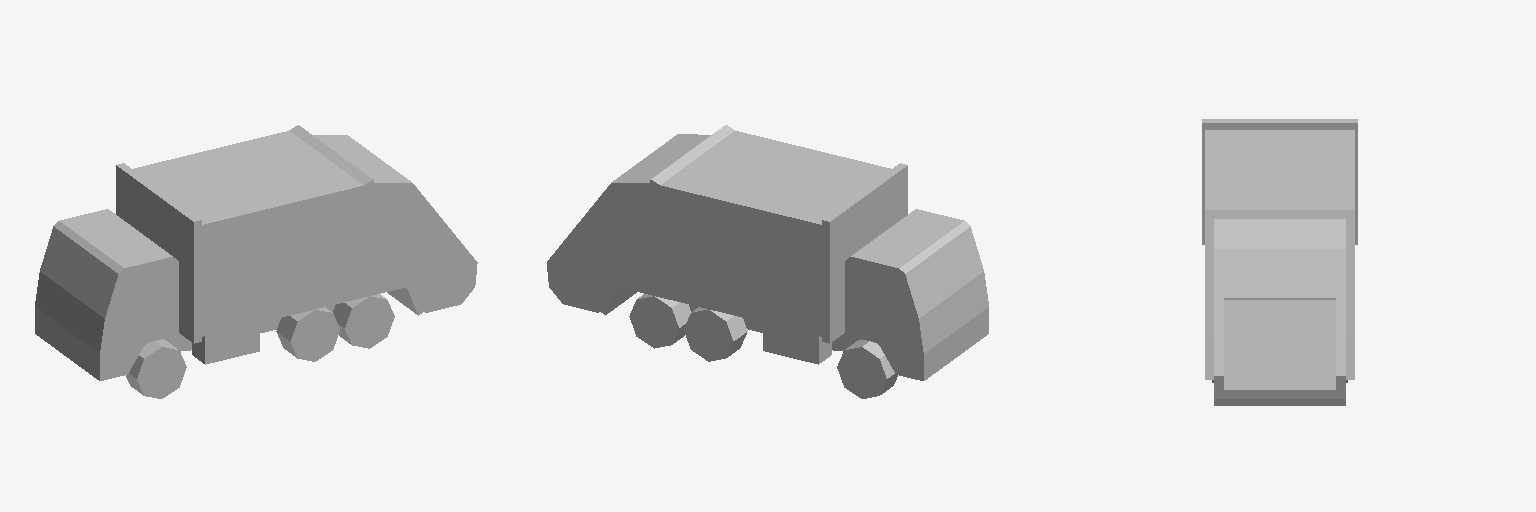
Rendered from car6.obj.
3 renders of one model, left to right at view 1: azimuth 30°, elevation 25°; view 2: azimuth 150°, elevation 25°; view 3: azimuth 270°, elevation 25°, orthographic.
Visible parts, largest first — view 1: pasted__pasted__null_7 pasted__group14 group45; view 2: pasted__pasted__null_7 pasted__group14 group45; view 3: pasted__pasted__null_7 pasted__group14 group45.
Part boxes in pixels (x1,y1,x2,y2): pasted__pasted__null_7 pasted__group14 group45: (35,125,477,398); pasted__pasted__null_7 pasted__group14 group45: (547,125,988,398); pasted__pasted__null_7 pasted__group14 group45: (1202,119,1357,405).
Bounding box in the file's own units: 10.33 × 4.57 × 3.7.